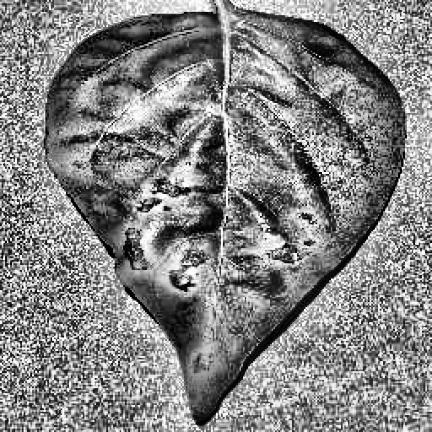leaf: (47, 0, 403, 420)
